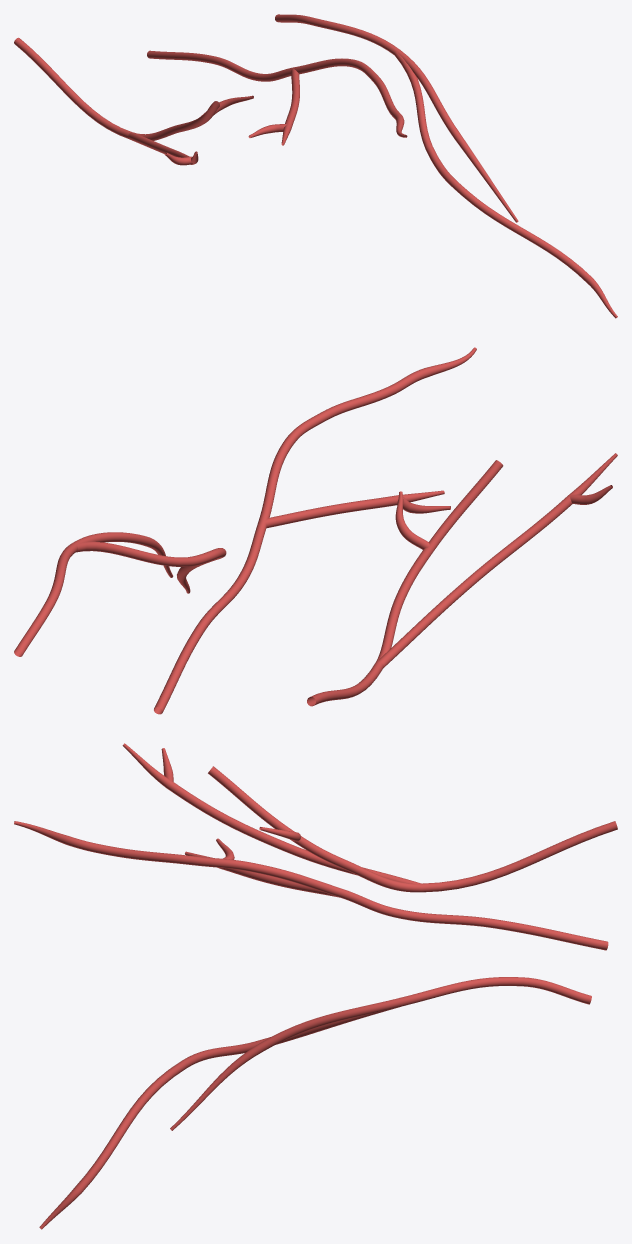
The picture shows the model from 3 angles, top to bottom: view 1: azimuth 30°, elevation 25°; view 2: azimuth 150°, elevation 25°; view 3: azimuth 270°, elevation 25°; orthographic projection. The views are drawn at different scales.
Parts seen in each view (by area): view 1: 左侧远侧外侧豆纹动脉; view 2: 左侧远侧外侧豆纹动脉; view 3: 左侧远侧外侧豆纹动脉.
Part boxes in pixels (<box>): 左侧远侧外侧豆纹动脉: <box>14,14,617,318</box>; 左侧远侧外侧豆纹动脉: <box>14,347,617,714</box>; 左侧远侧外侧豆纹动脉: <box>14,743,617,1229</box>.
Size of the model in its own units: 0.0171 by 0.0101 by 0.0194.
